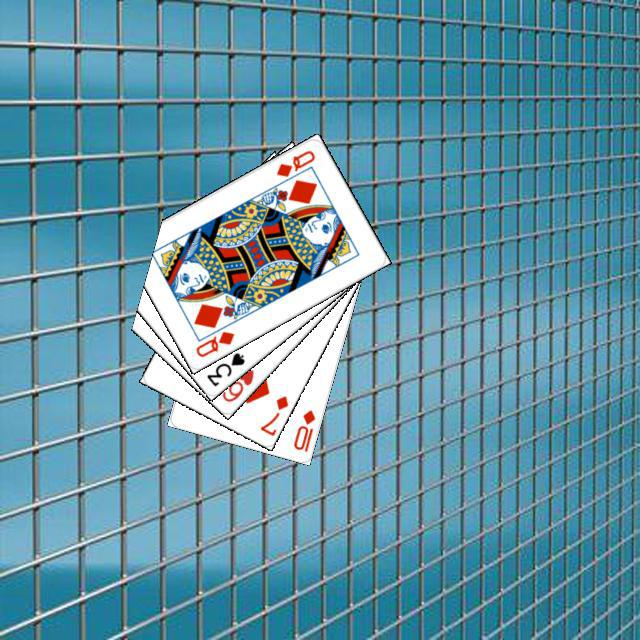10d: (288, 405, 317, 454)
3s: (202, 347, 247, 388)
6h: (217, 364, 256, 404)
7d: (255, 390, 290, 437)
Qd: (271, 145, 317, 179), (191, 326, 236, 359)
